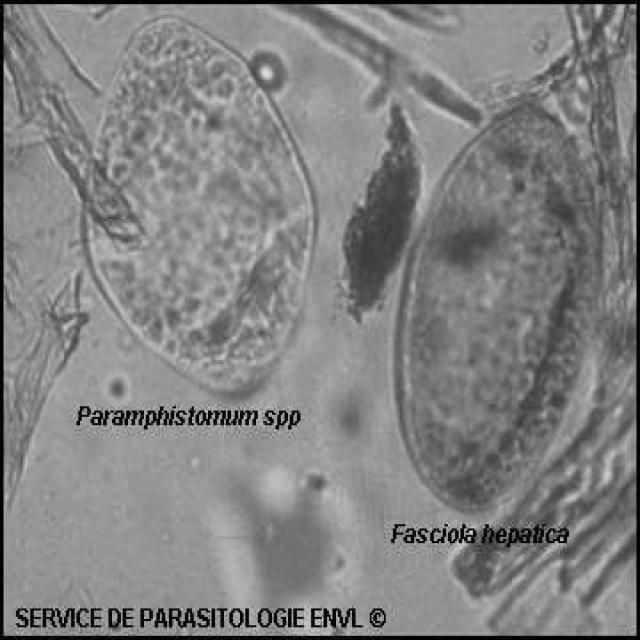Enterobius Vermicularis: (377, 92, 617, 536)
